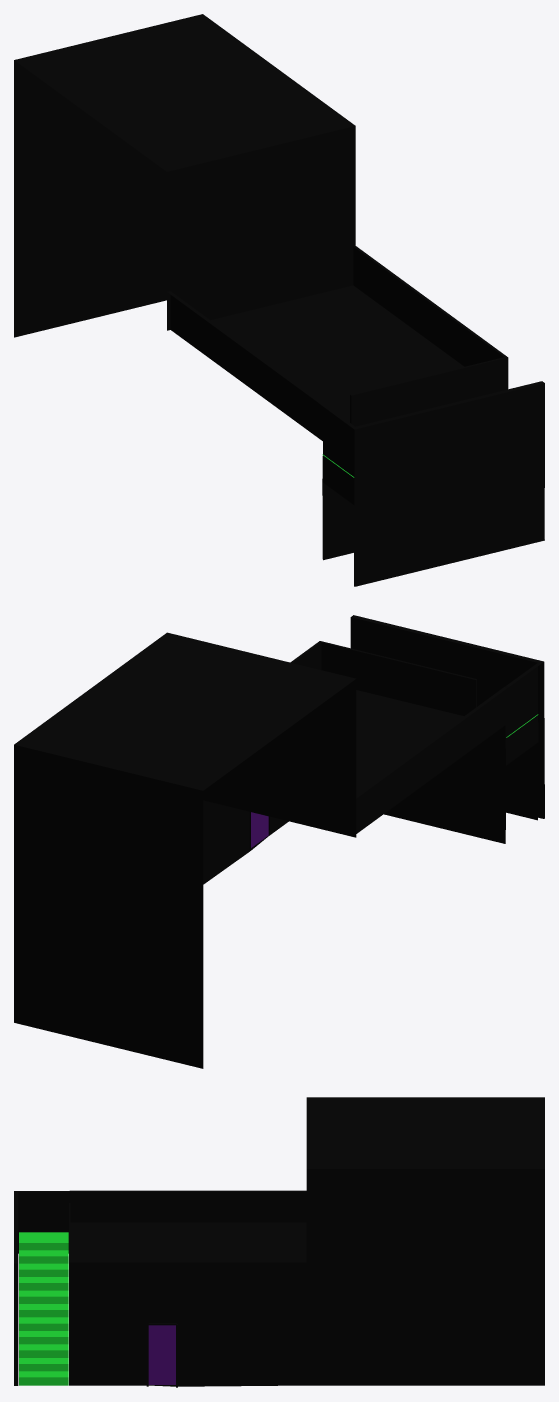
File: Kontor_new_uv.fbx
The picture shows the model from 3 angles, top to bottom: view 1: azimuth 30°, elevation 25°; view 2: azimuth 150°, elevation 25°; view 3: azimuth 270°, elevation 25°; orthographic projection. The views are drawn at different scales.
Visible parts, largest first — view 1: polySurface328; view 2: polySurface328; view 3: polySurface328.
Part boxes in pixels (x1,y1,x2,y2): polySurface328: [14, 14, 544, 586]; polySurface328: [14, 615, 544, 1068]; polySurface328: [14, 1097, 544, 1387].
Bounding box in the file's own units: 508 × 706 × 1561.
